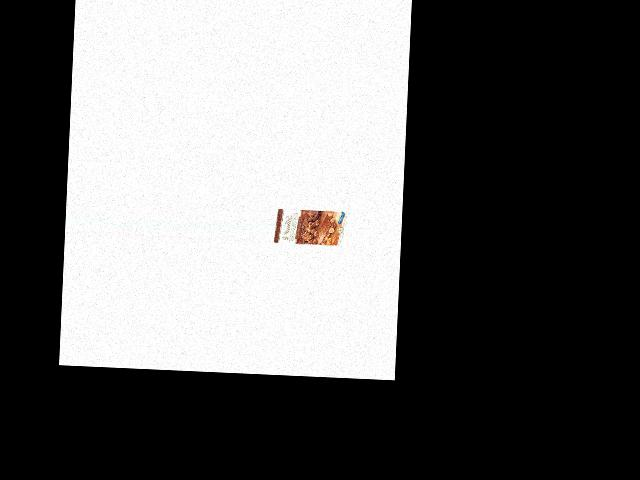chocolate: (276, 206, 346, 251)
